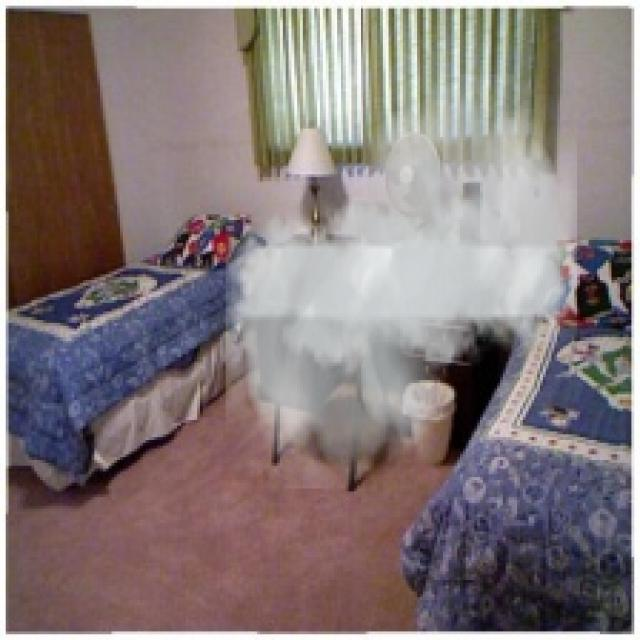smoke: (226, 74, 577, 489)
